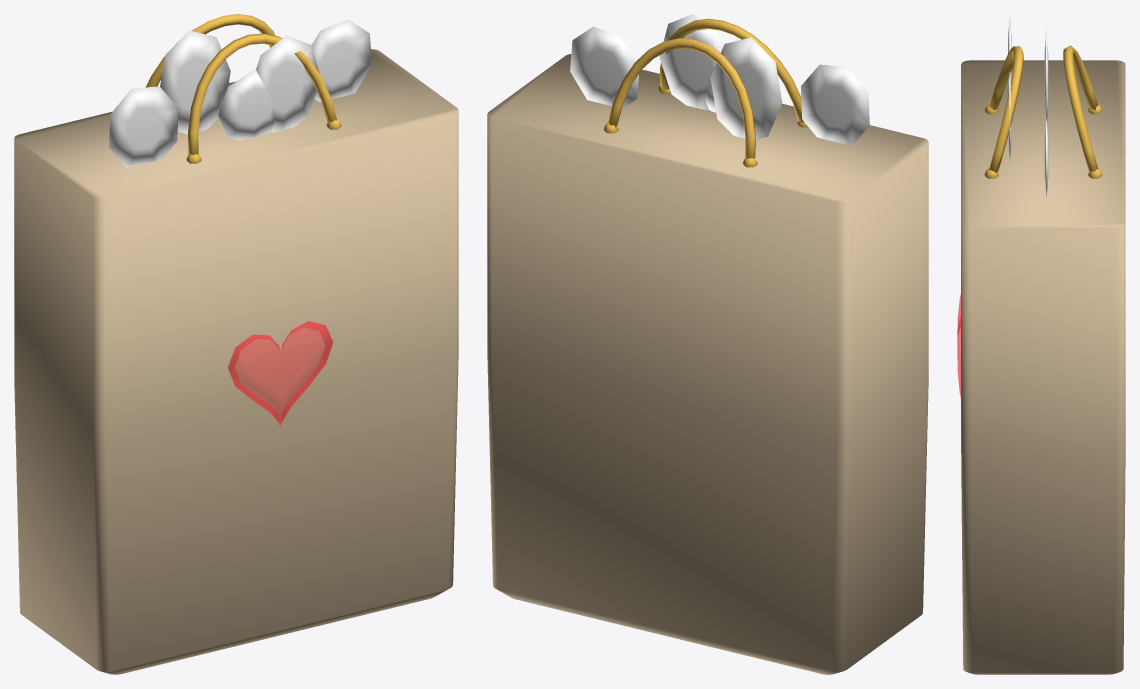
Rendered from shopping_bag.glb.
3 renders of one model, left to right at view 1: azimuth 30°, elevation 25°; view 2: azimuth 150°, elevation 25°; view 3: azimuth 270°, elevation 25°, orthographic. The views are drawn at different scales.
Visible parts, largest first — view 1: shopping_bag; view 2: shopping_bag; view 3: shopping_bag.
Boxes of the visible parts, left/top/right/bottom form: shopping_bag: left=14, top=14, right=458, bottom=674; shopping_bag: left=487, top=14, right=928, bottom=674; shopping_bag: left=957, top=15, right=1125, bottom=674.
Size of the model in its own units: 0.26 by 0.4006 by 0.1105.
